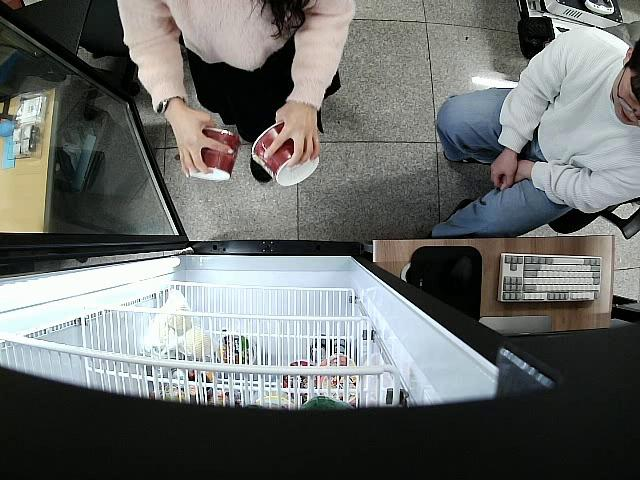00_hand: (170, 106, 235, 179), (265, 102, 321, 172)
05_nuguri_L: (250, 123, 319, 186), (183, 126, 241, 183)
